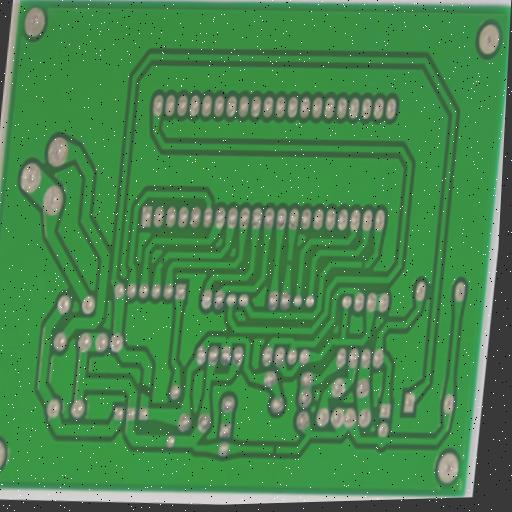open_circuit: (138, 380, 154, 404), (282, 256, 295, 271), (156, 254, 169, 268), (269, 444, 280, 458), (358, 257, 369, 271)
